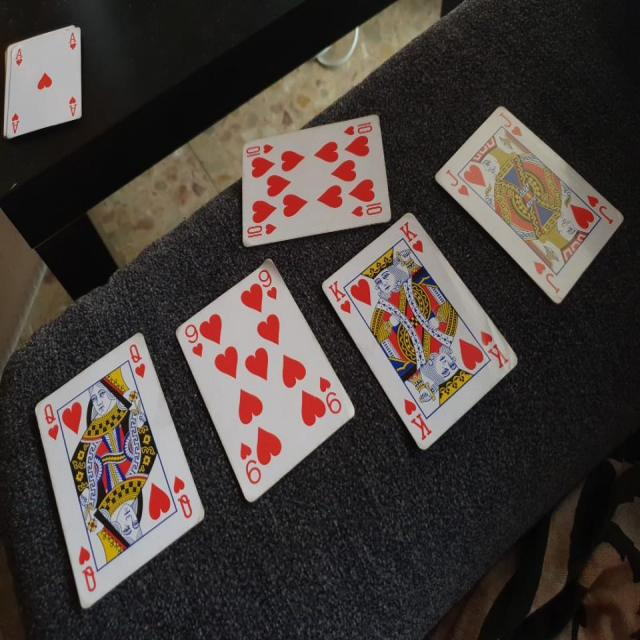10 Hearts: (234, 98, 391, 244)
9 Hearts: (174, 260, 354, 500)
J Hearts: (428, 90, 628, 301)
K Hearts: (315, 207, 520, 454)
Q Hearts: (36, 322, 206, 618)
